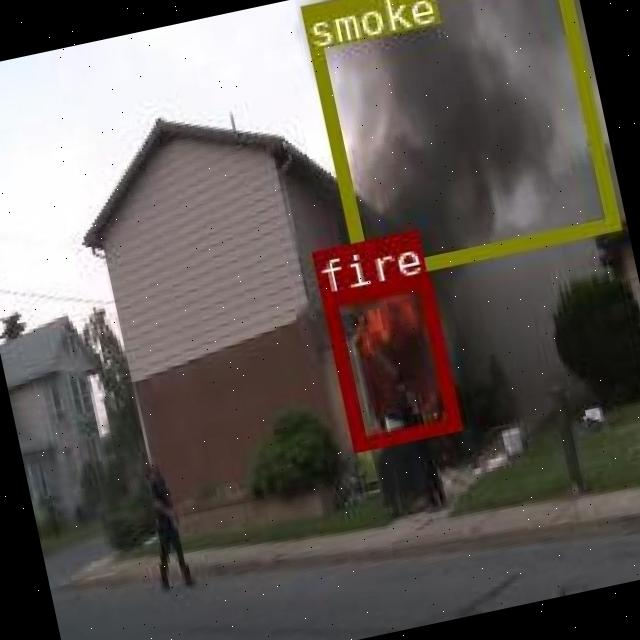fire: (321, 274, 458, 450)
smoke: (299, 0, 616, 281)
